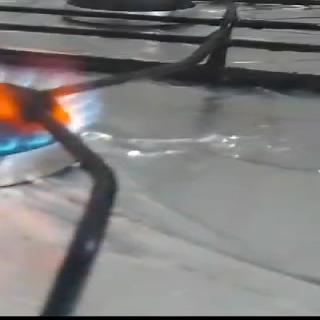fire: (0, 0, 109, 167)
